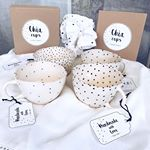cups: (1, 59, 69, 108), (71, 61, 130, 114)
